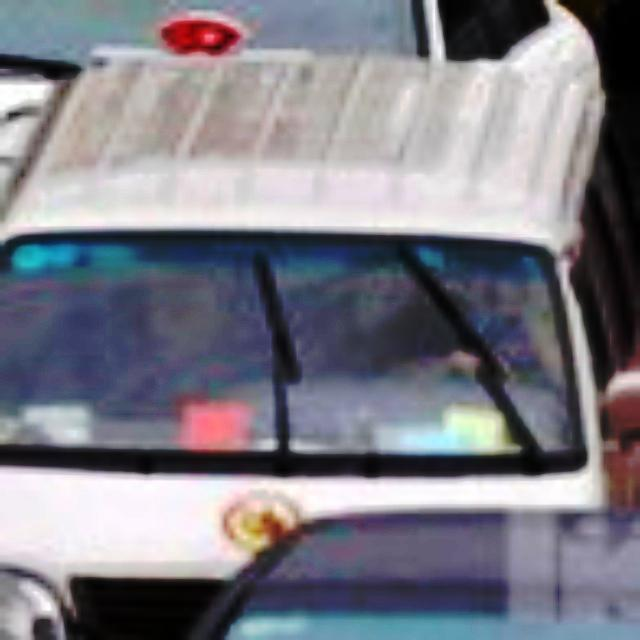Car: (0, 0, 639, 639), (165, 503, 639, 639)
